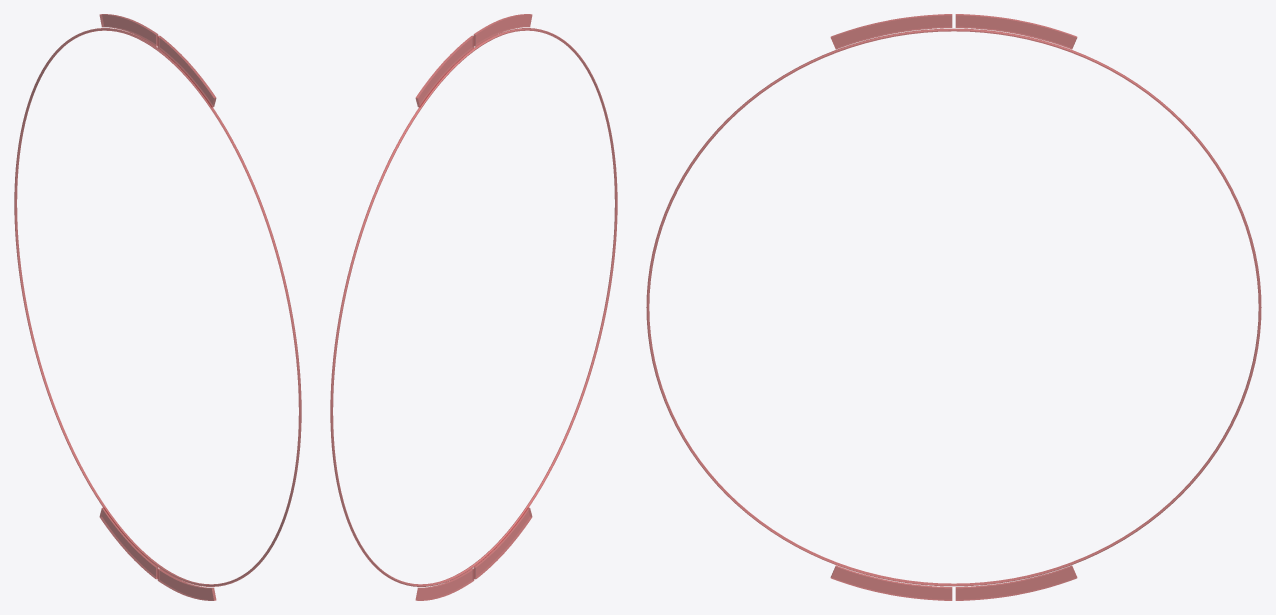
Rendered from gizmoRotateX.fbx.
3 views of the same model, side by side, from view 1: azimuth 30°, elevation 25°; view 2: azimuth 150°, elevation 25°; view 3: azimuth 270°, elevation 25° (orthographic). The views are drawn at different scales.
Visible parts, largest first — view 1: gizmoRotateX; view 2: gizmoRotateX; view 3: gizmoRotateX.
Part boxes in pixels (x1=…): gizmoRotateX: x1=14, y1=14, x2=301, y2=600; gizmoRotateX: x1=330, y1=14, x2=617, y2=600; gizmoRotateX: x1=646, y1=14, x2=1261, y2=600.
Size of the model in its own units: 0.5 by 106 by 100.
